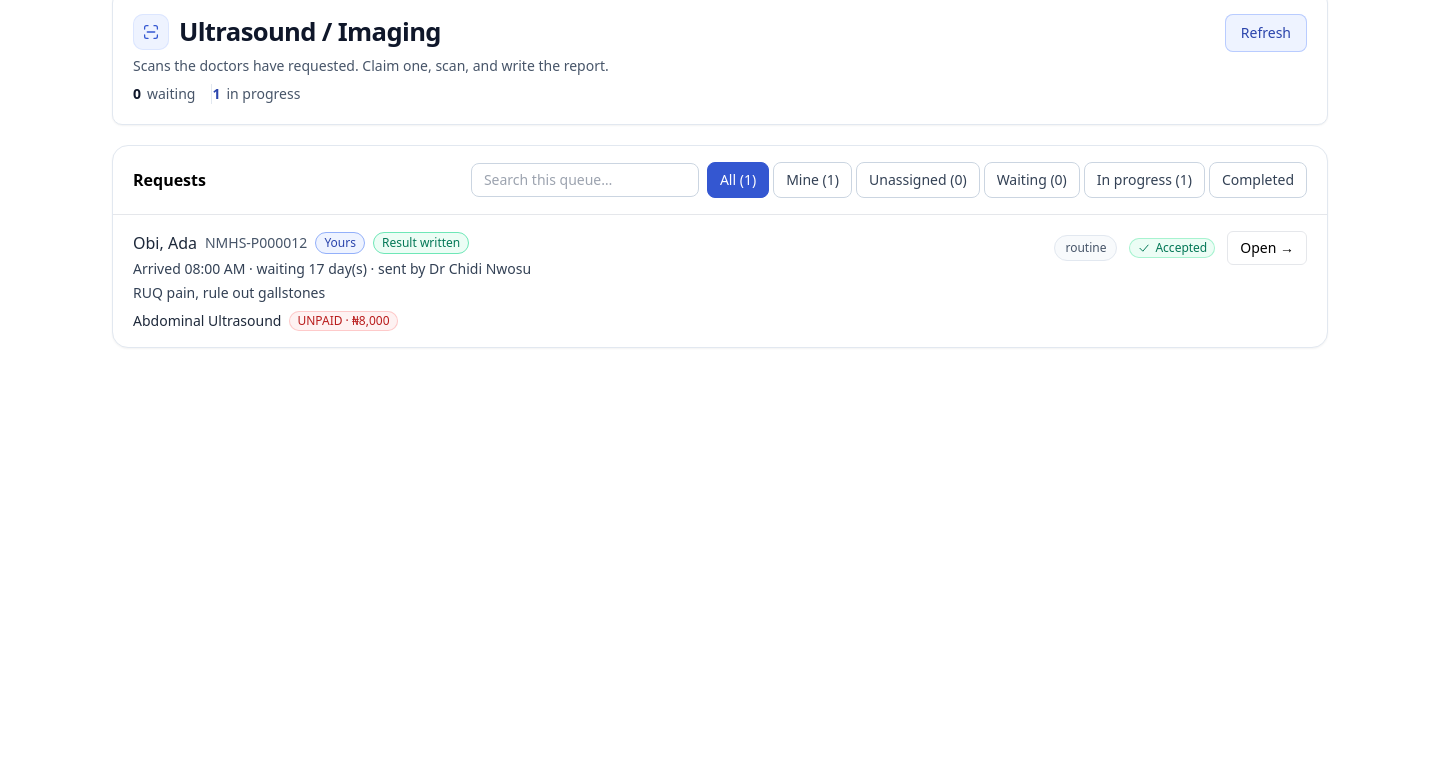
it: the imaging report the sonographer writes › re-opens a saved report in its own sections
The width and height of the screenshot is (1440, 779).
Click the button "Open →" at (1267, 248), box [1227,231,1307,265]
(page scrolled)
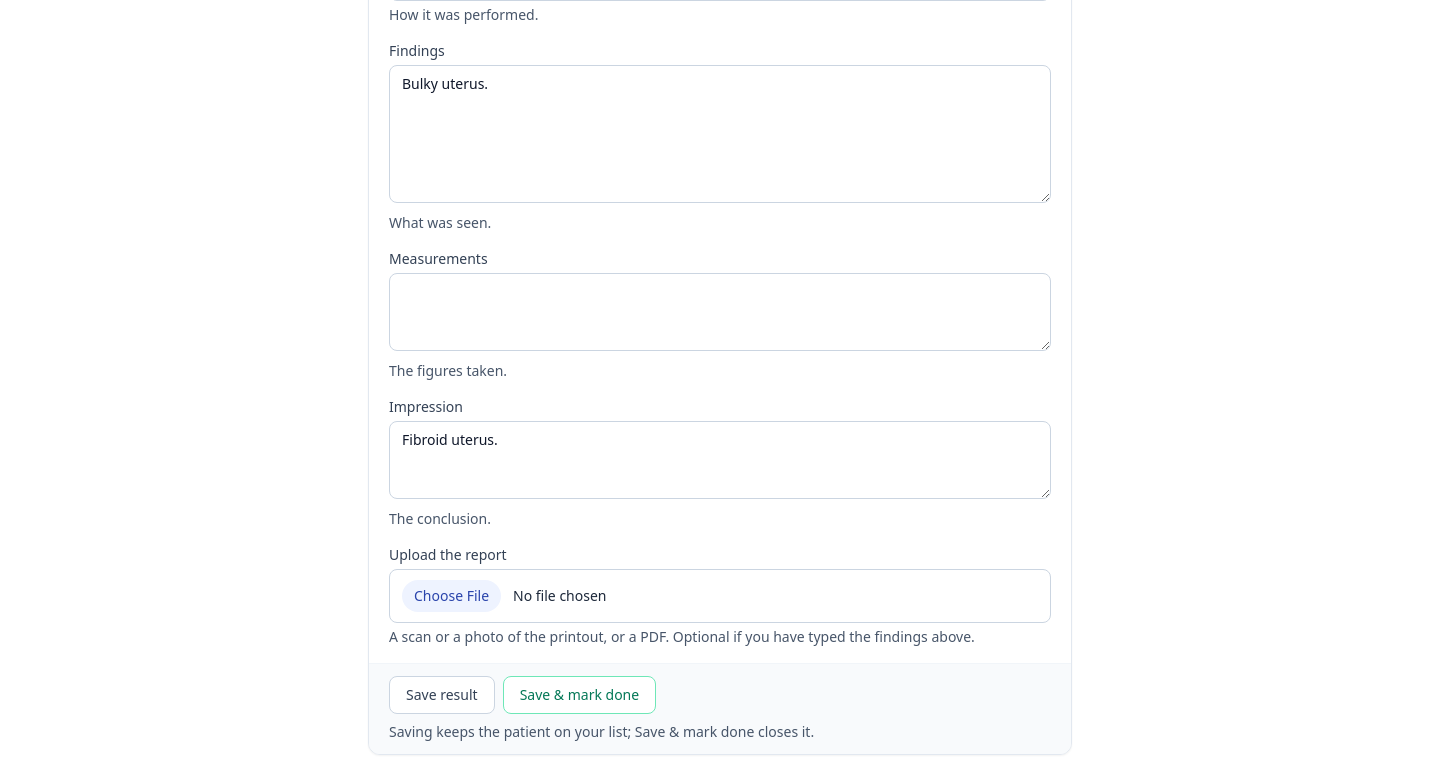
Expected: the text box labelled "Findings" holds "Bulky uterus.", [389,65,1051,203]
Expected: the text box labelled "Impression" holds "Fibroid uterus.", [389,421,1051,499]
